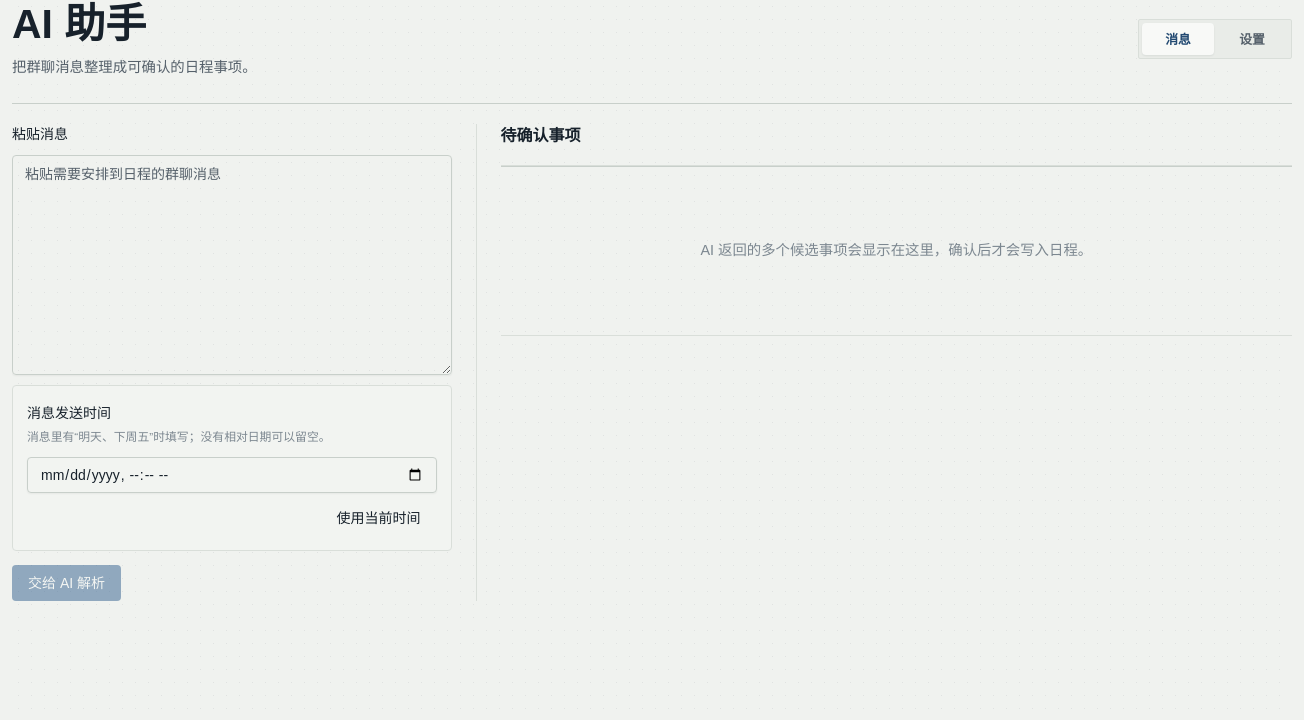
it: AssistantView › renders multiple candidates and unresolved questions
Type "two actions" into the text box labelled "粘贴消息" at (232, 265), box x1=12 y1=155 x2=452 y2=375
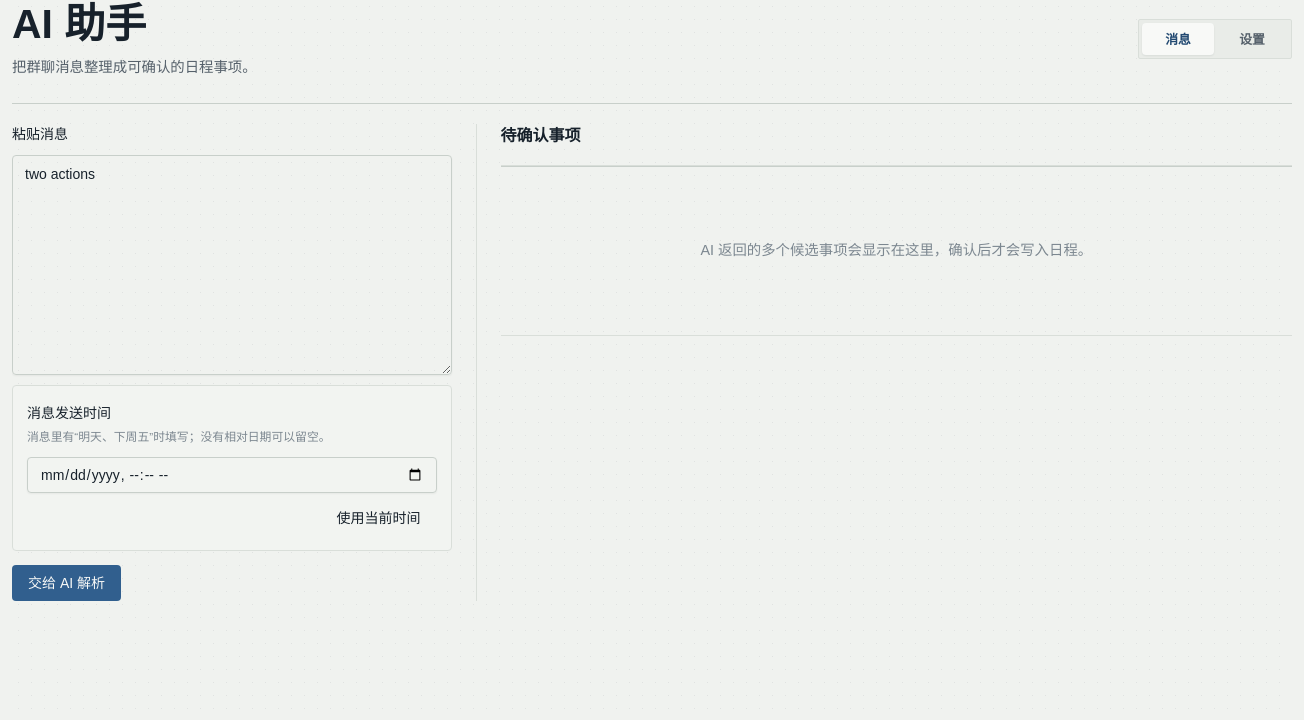
Click the button "交给 AI 解析" at (66, 582), box x1=12 y1=564 x2=121 y2=600
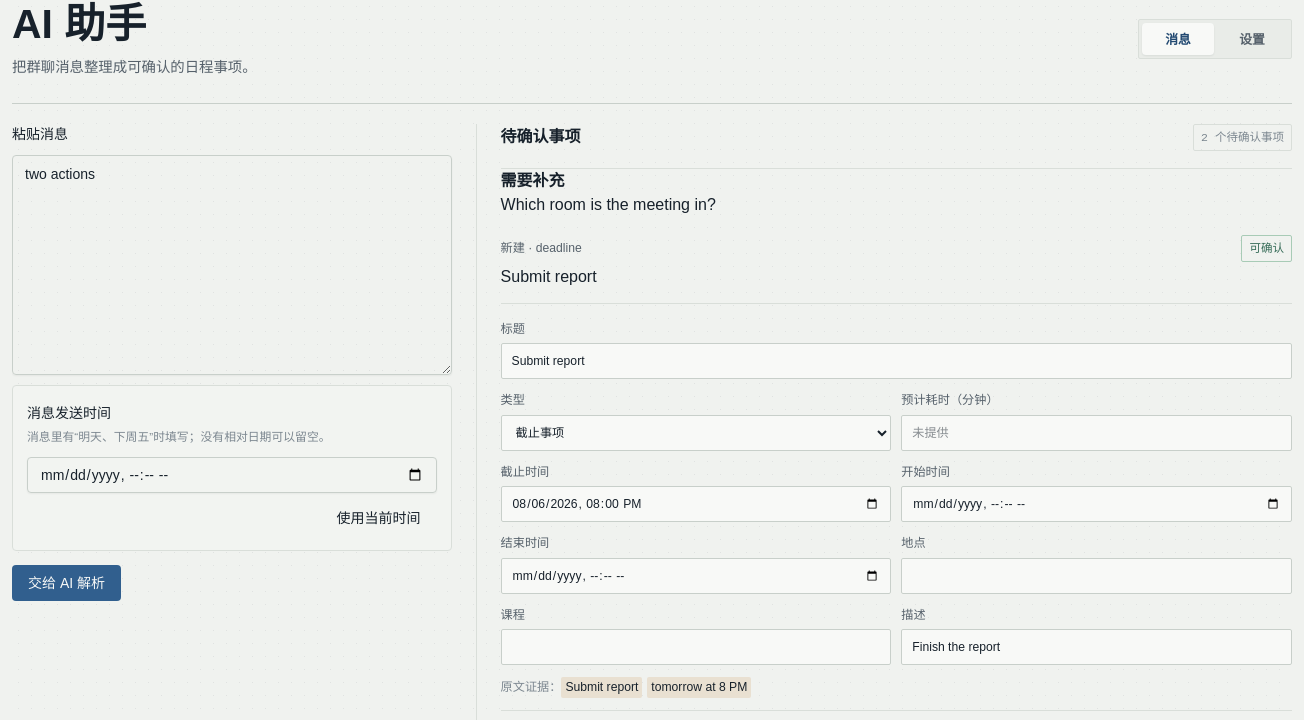
Expected: the text "2 个待确认事项" is shown, x1=1193 y1=124 x2=1292 y2=151
Expected: the text "Which room is the meeting in?" is shown, x1=501 y1=196 x2=716 y2=213
